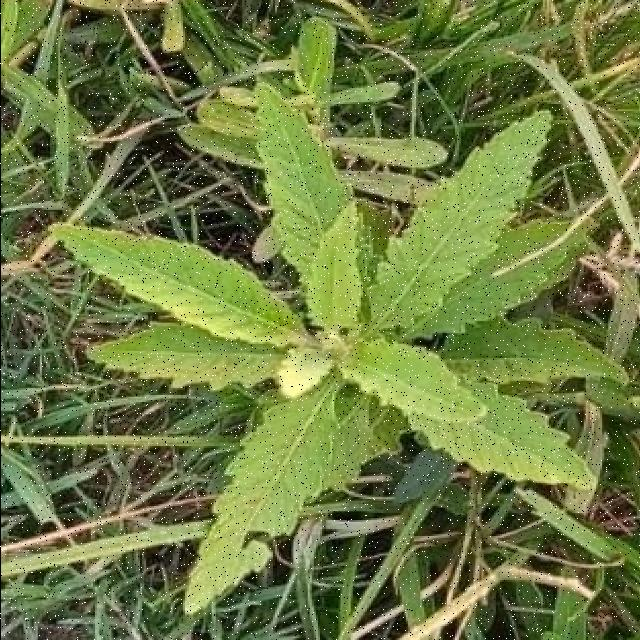weed: (48, 86, 626, 614)
